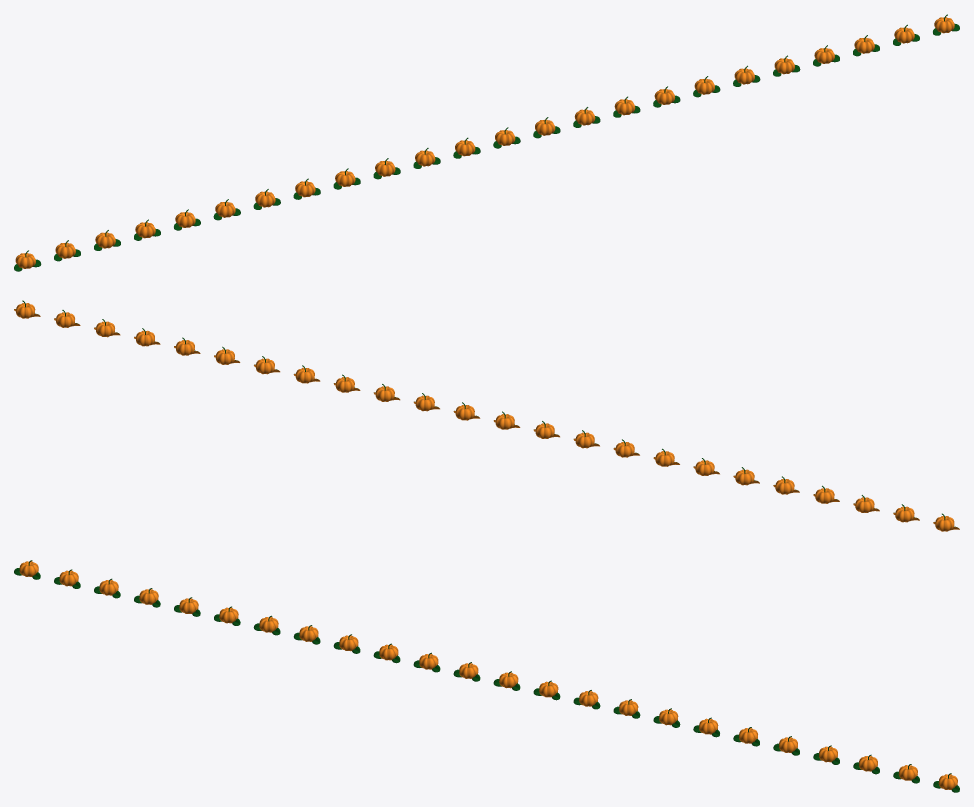
Rendered from Cultivo_Calabaza.glb.
3 renders of one model, top to bottom at view 1: azimuth 30°, elevation 25°; view 2: azimuth 150°, elevation 25°; view 3: azimuth 330°, elevation 25°, orthographic. The views are drawn at different scales.
Parts seen in each view (by area): view 1: Calabaza_Cultvio.001; view 2: Calabaza_Cultvio.001; view 3: Calabaza_Cultvio.001.
Part boxes in pixels (x1,y1,x2,y2): Calabaza_Cultvio.001: (14,14,959,271); Calabaza_Cultvio.001: (14,300,959,531); Calabaza_Cultvio.001: (14,560,959,792).
Bounding box in the file's own units: 18.72 × 0.306 × 0.7534.
1 material, 1 textured.
